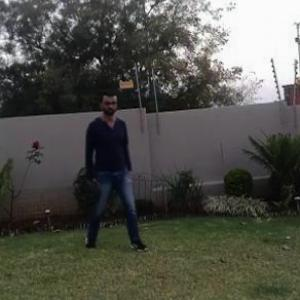follow: (82, 92, 136, 246)
